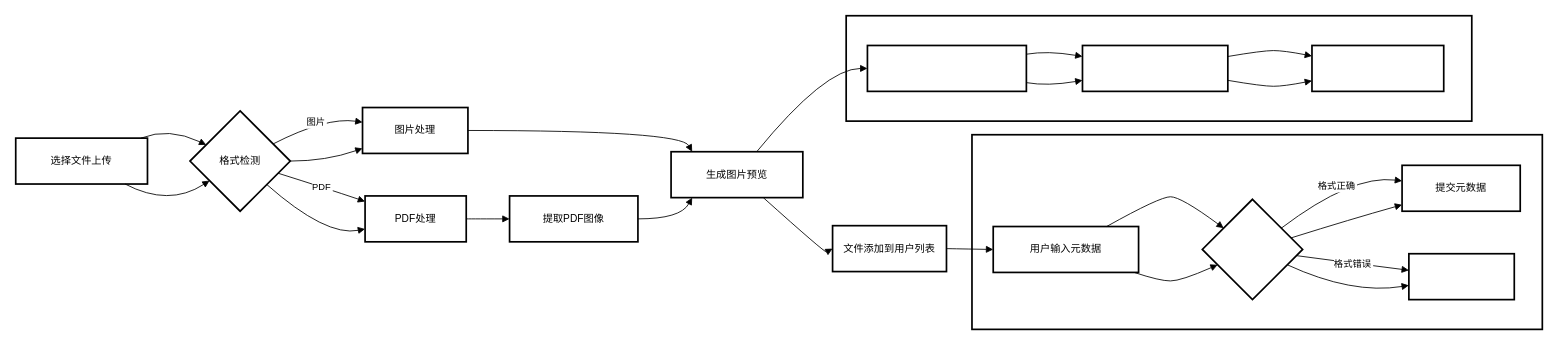
This 1557x344 diagram has some shape labels left out. The shapes that lost their labels are listed below. From the top down, each one's centre as x and y in pixels, then its label:
the point at 946,68: 用户查看图像预览
the point at 1154,68: 选择或删除图像
the point at 1377,68: 提交图像选择
the point at 1252,249: 输入校验
the point at 1461,276: 错误提示
